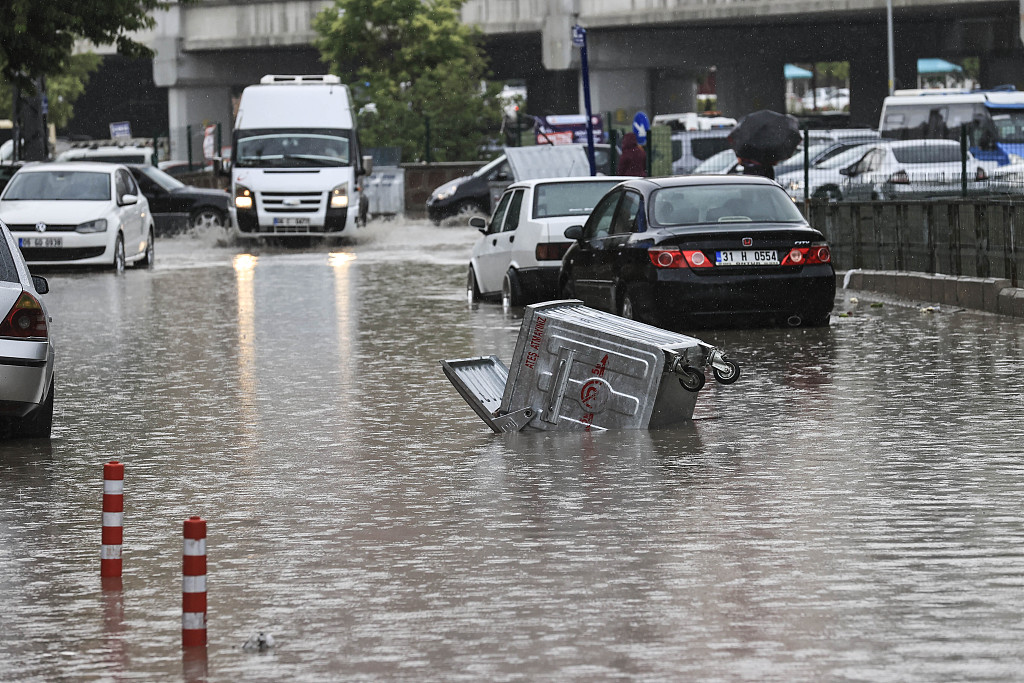puddle: (1, 311, 1024, 682)
